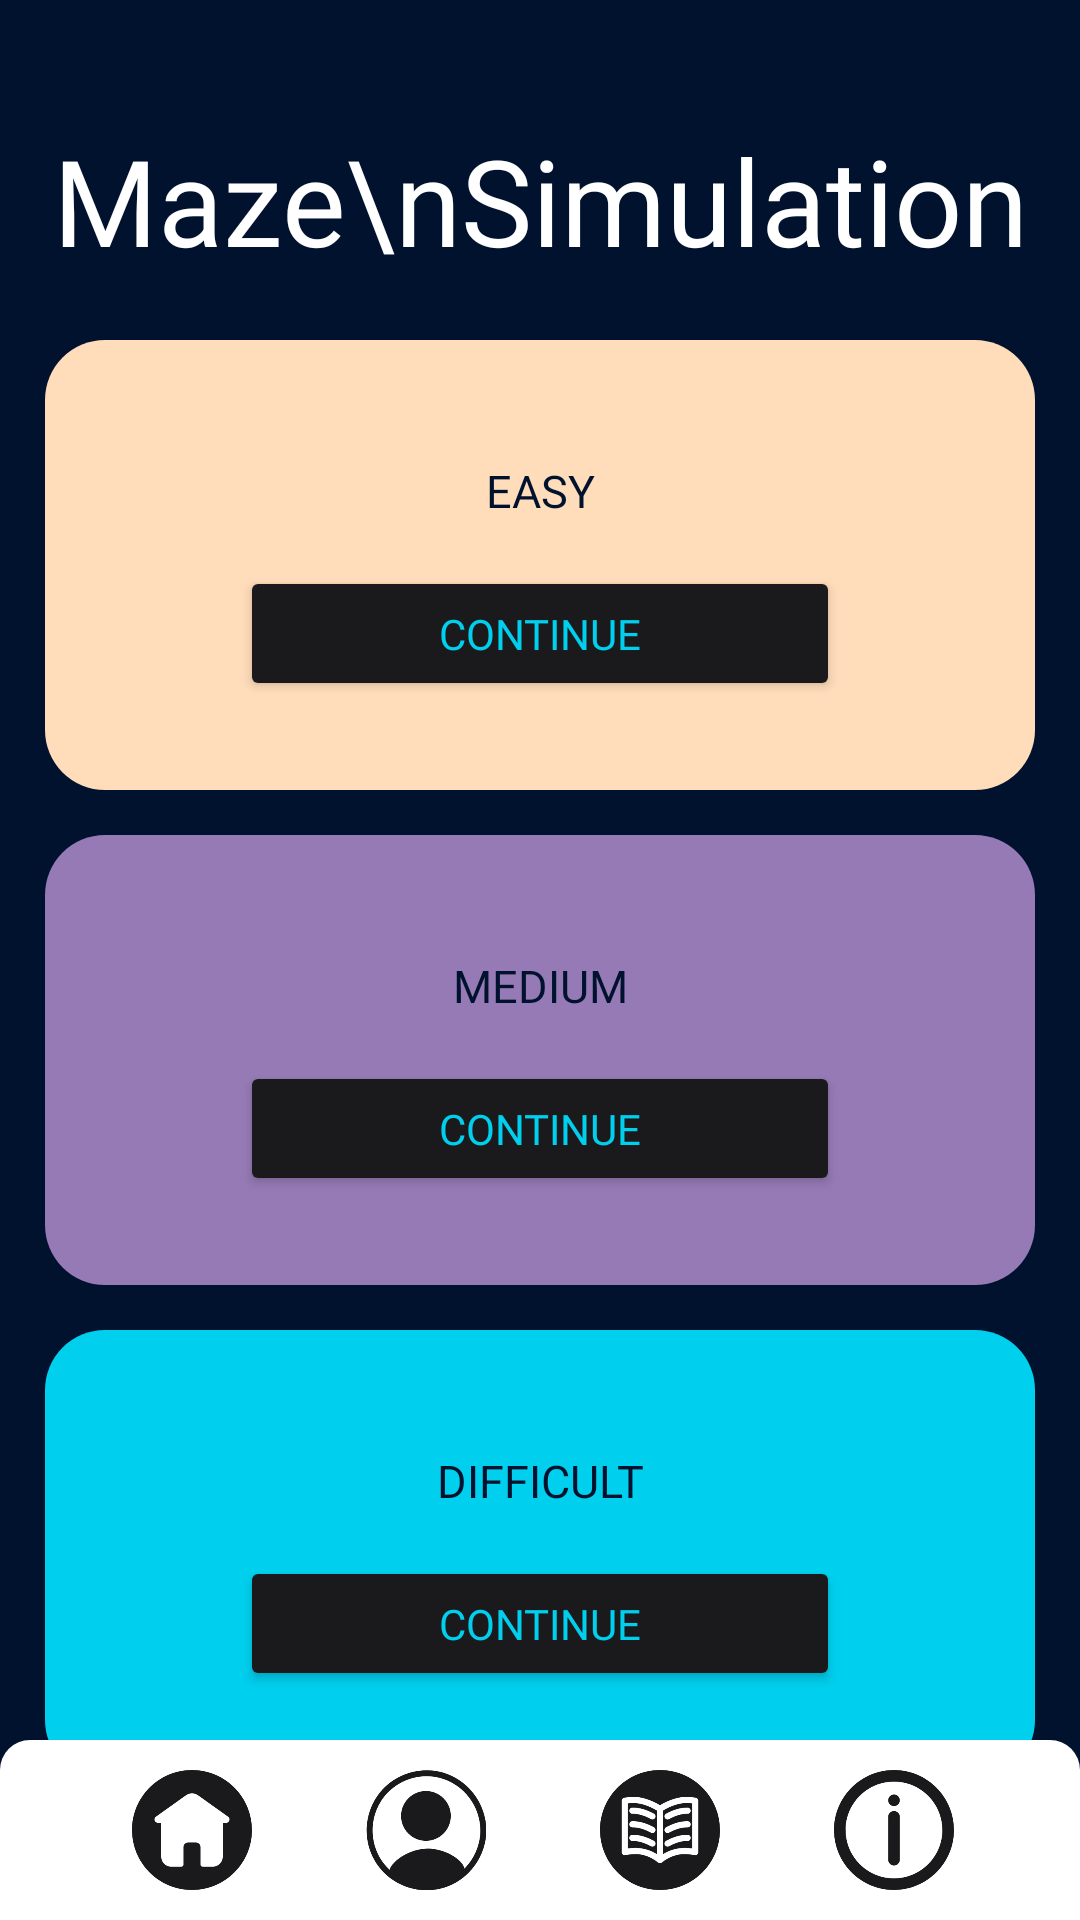

Where icons sit on this 1080 × 1920 app screen, as bbox=(x1, y1, x2, y2):
home: bbox=(132, 1770, 252, 1890)
info: bbox=(834, 1770, 954, 1890)
note: bbox=(600, 1770, 720, 1890)
profile: bbox=(366, 1770, 486, 1890)
